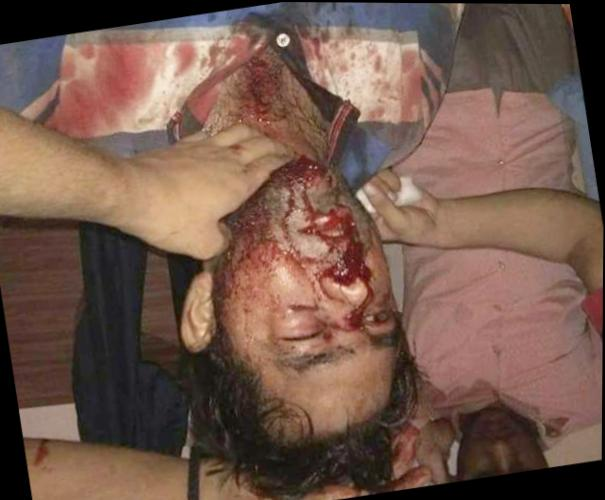Fire: (213, 159, 399, 399), (52, 29, 162, 142), (183, 21, 268, 124), (219, 45, 297, 143), (400, 42, 441, 133), (168, 28, 206, 72)
